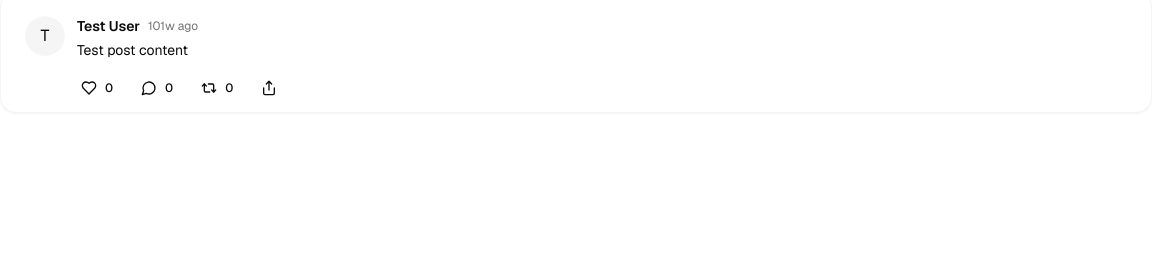
PostCard - Hover Behavior › should show UserActionMenu hover card on hover over username
// Hover over the display name button
Hover over the link "Test User".
mouse_move(108, 26)  # box [77,16,140,36]
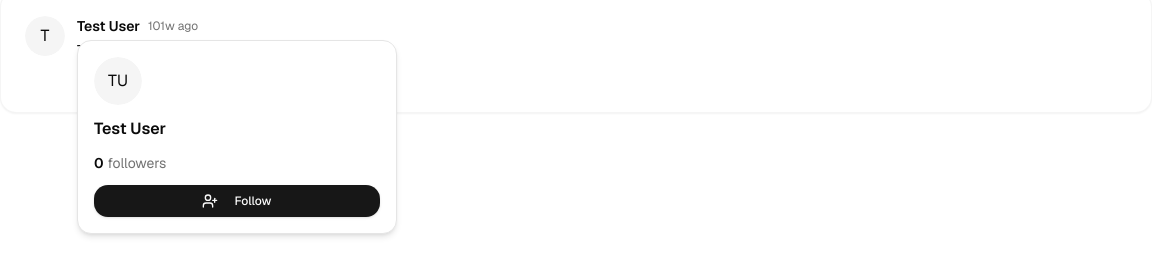
Check: the button "Follow" is shown, box [94,185,380,217]
// Unhover to close
Move the pointer off the link "Test User", box [77,16,140,36]
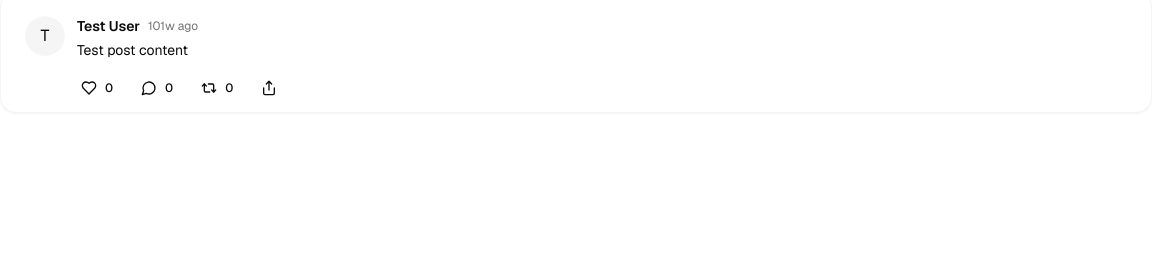
Check: the text "follow" is gone
